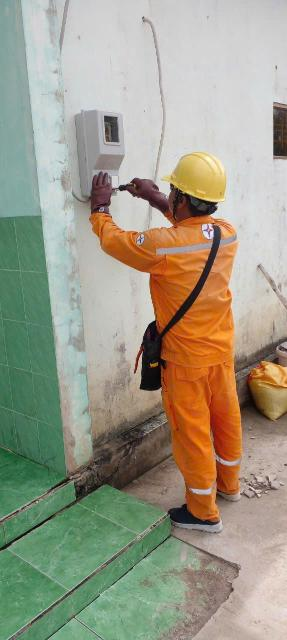gloves: (127, 166, 174, 215), (87, 168, 116, 224)
helmet: (167, 149, 236, 216)
shoes: (139, 486, 228, 544), (212, 472, 256, 505)
